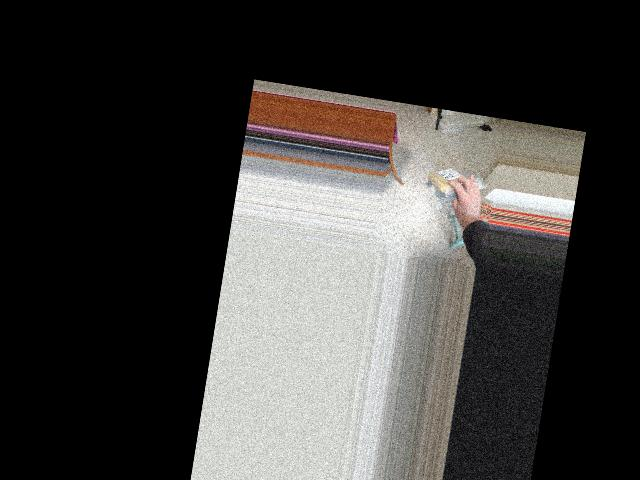cheese: (423, 163, 472, 199)
